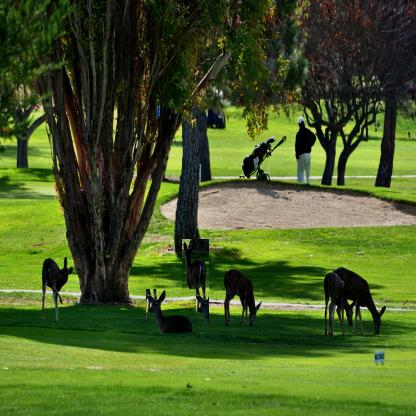Deer: (330, 266, 387, 337), (323, 271, 358, 337), (146, 289, 196, 335), (182, 239, 209, 324), (40, 255, 73, 323), (224, 269, 262, 328)
